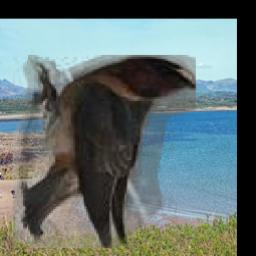Swallow: (13, 56, 196, 249)
